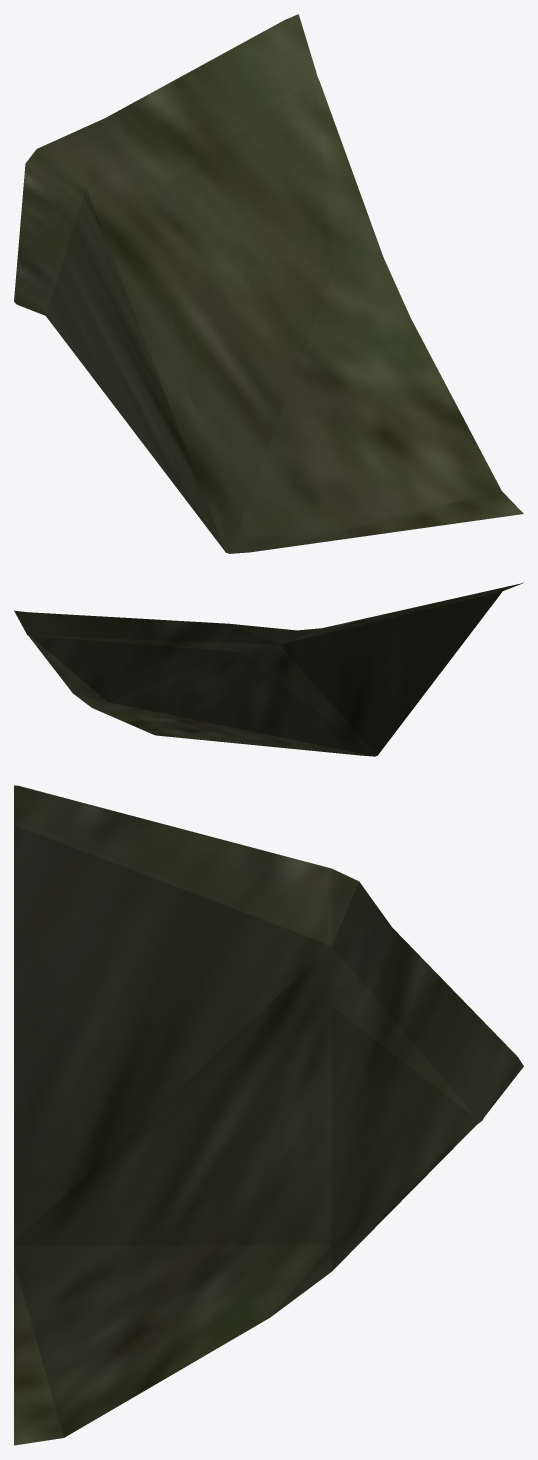
3 renders of one model, top to bottom at view 1: azimuth 30°, elevation 25°; view 2: azimuth 150°, elevation 25°; view 3: azimuth 270°, elevation 25°, orthographic. The views are drawn at different scales.
Size of the model in its own units: 0.7088 by 0.446 by 0.5436.
Materials: 1 (1 with a texture image).
